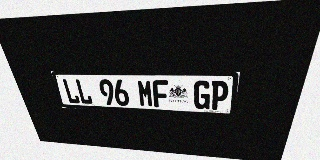6: (112, 79, 130, 106)
9: (98, 79, 116, 105)
F: (152, 80, 169, 108)
G: (193, 80, 211, 109)
L: (61, 79, 81, 104), (74, 79, 93, 104)
M: (137, 80, 154, 107)
P: (210, 81, 229, 110)
